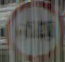Heavy Vehicles: (7, 1, 58, 50)
